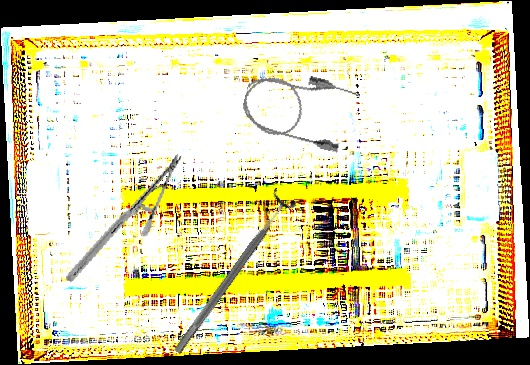Cannula: (237, 61, 360, 155)
Fixation Ring: (164, 186, 299, 361)
Needle Holder: (65, 136, 183, 300)
